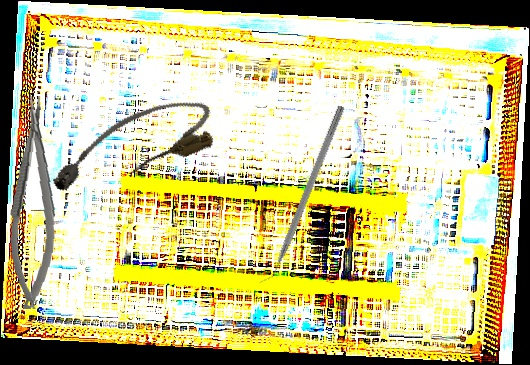Cannula: (39, 88, 222, 203)
Chopper: (255, 101, 346, 289)
Needle Holder: (3, 94, 66, 311)
